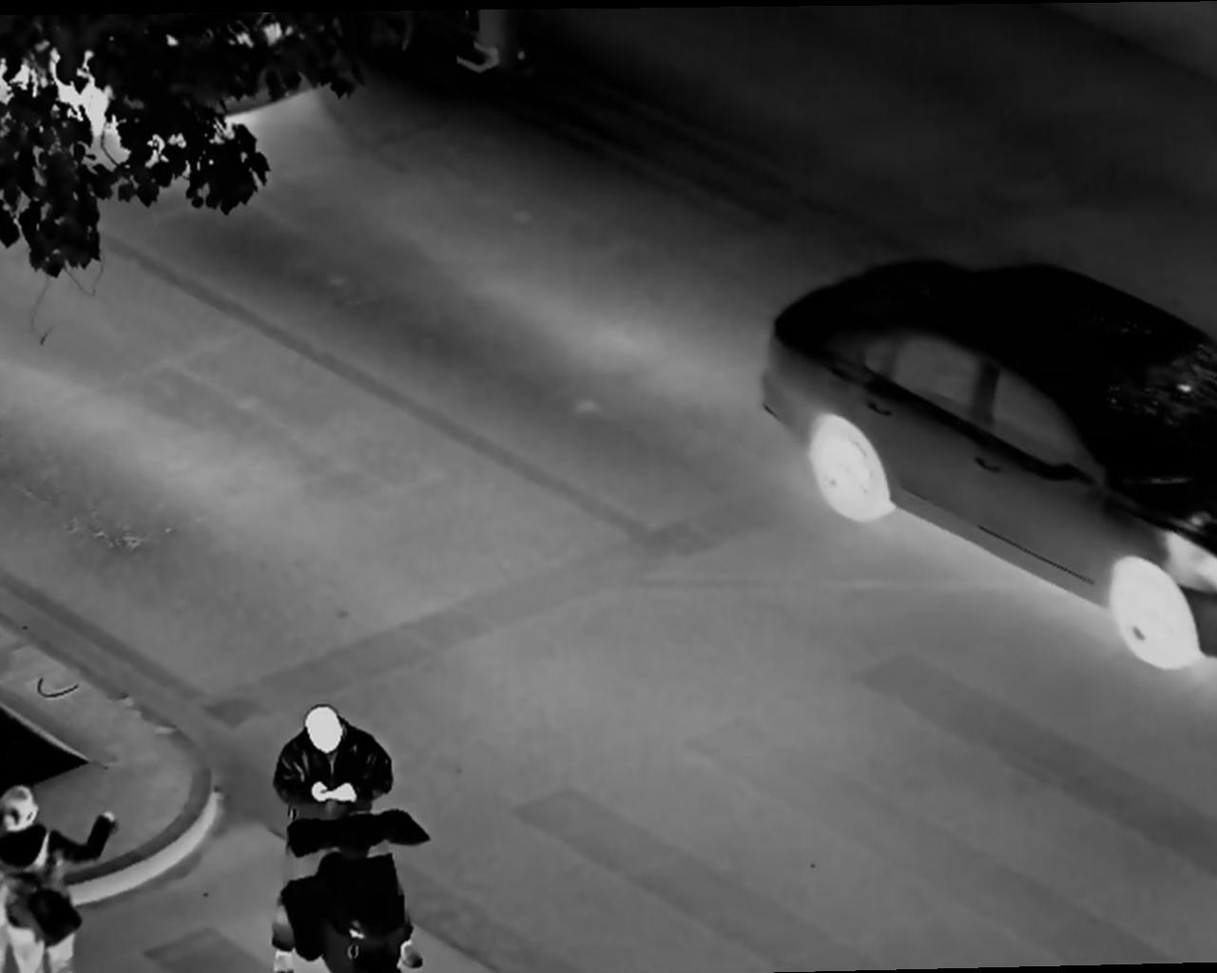person: (275, 706, 398, 947), (10, 749, 81, 969)
